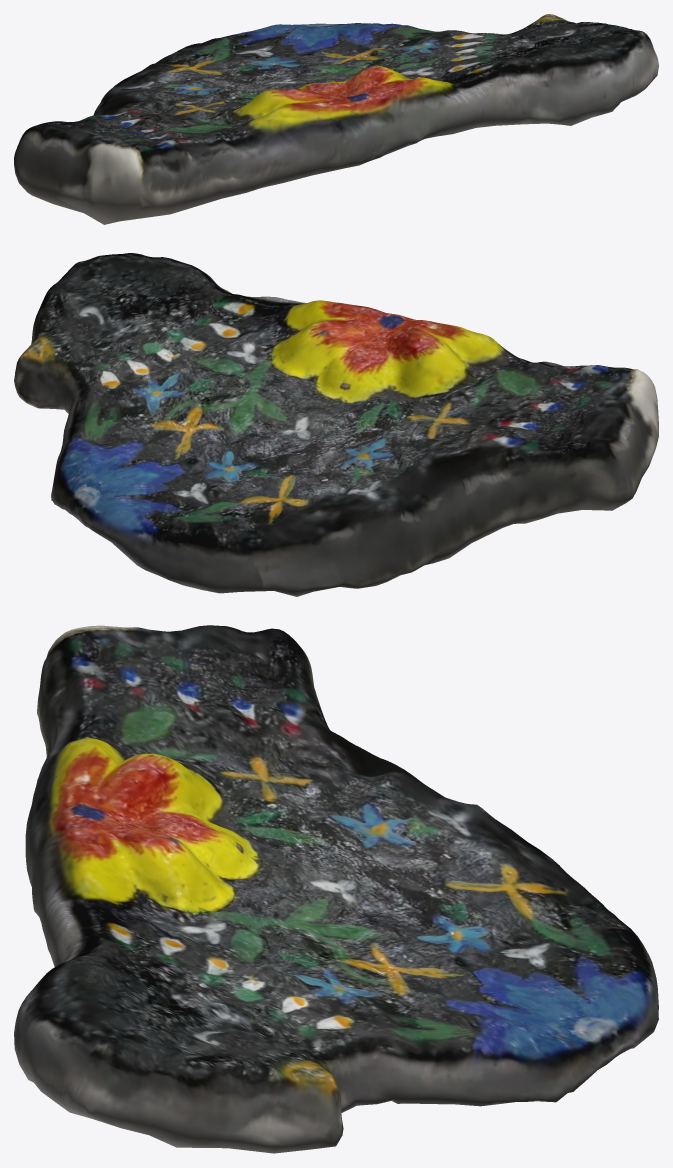
3 renders of one model, top to bottom at view 1: azimuth 30°, elevation 25°; view 2: azimuth 150°, elevation 25°; view 3: azimuth 270°, elevation 25°, orthographic. The views are drawn at different scales.
Size of the model in its own units: 0.6441 by 0.1415 by 0.392.
Materials: 1 (1 with a texture image).
